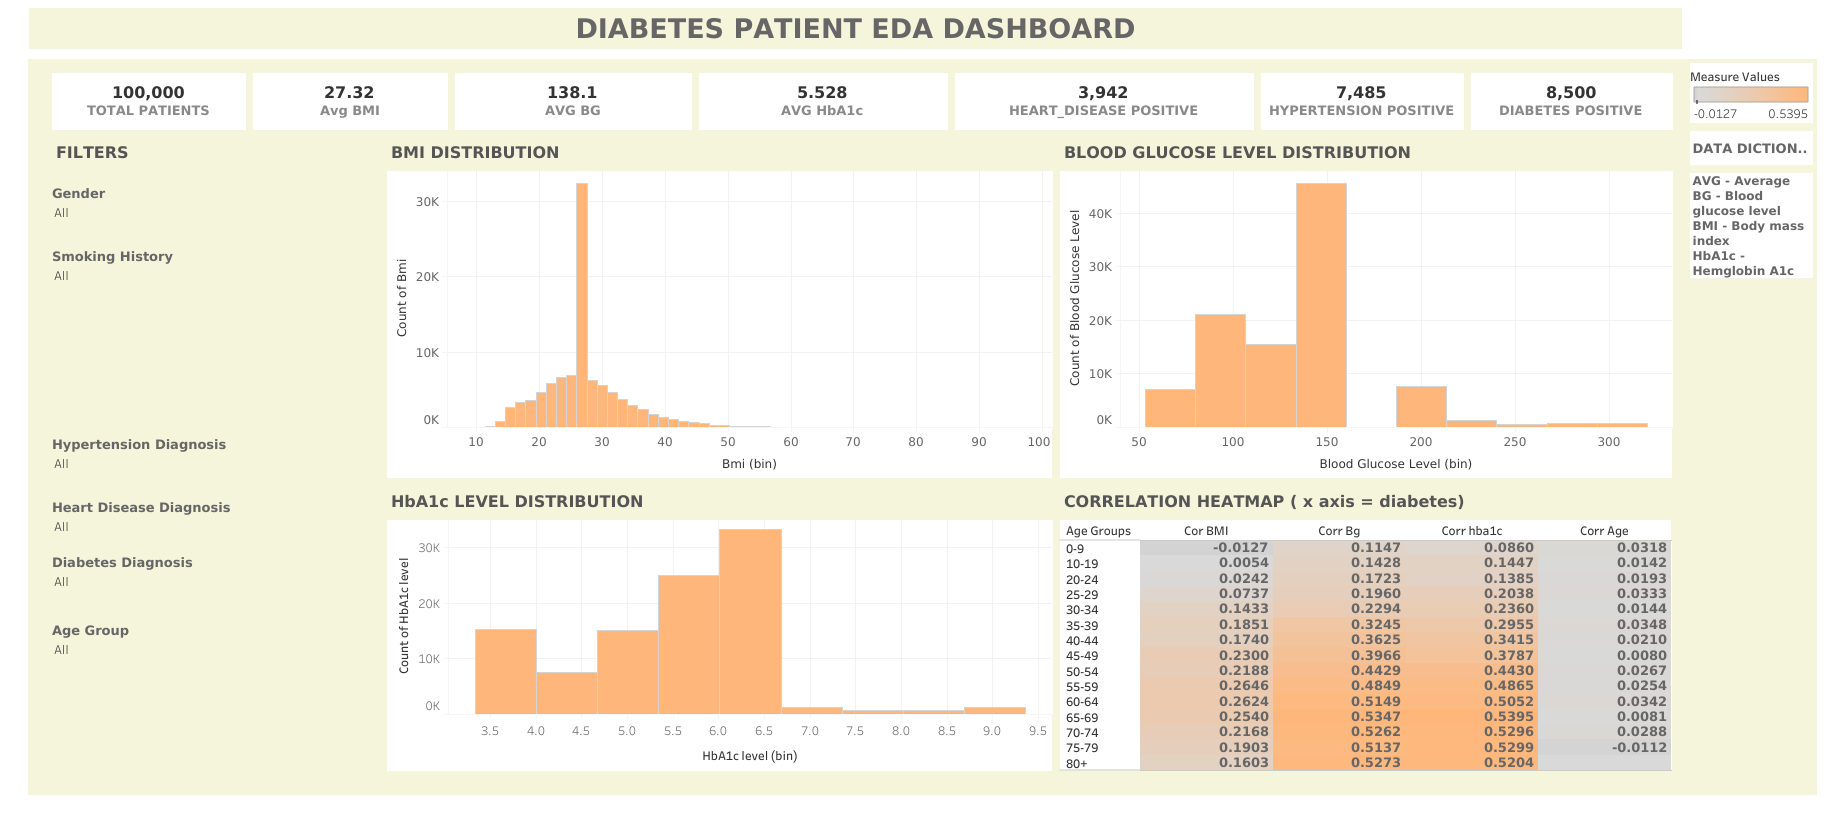

This screenshot's page, from the dashboard's own definition file:
{"tool":"tableau","page":{"name":"Dashboard 1","canvas":[1000,1000],"units":"permille","ordinal":0},"visuals":[{"type":"text","box":[4.9,9.9,990.3,49.7]},{"type":"legend","title":"Correlation Heatmap","param":"[federated.1rmcrk01st02gq1c0l5tl1j8yfy8].[Multiple Values]","box":[909.6,71.9,79.4,84]},{"type":"worksheet","title":"kpi 1","mark":"Automatic","box":[29.1,84.2,108.1,78.2]},{"type":"worksheet","title":"kpi 2","mark":"Automatic","box":[137.2,84.2,108.2,78.2]},{"type":"worksheet","title":"kpi 3","mark":"Automatic","box":[245.4,84.2,131.2,78.2]},{"type":"worksheet","title":"kpi 4","mark":"Automatic","box":[376.6,84.2,137.4,78.2]},{"type":"worksheet","title":"kpi 5","mark":"Automatic","box":[514,84.2,164.8,78.2]},{"type":"worksheet","title":"kpi 6","mark":"Automatic","box":[678.8,84.2,112.4,78.2]},{"type":"worksheet","title":"kpi 7","mark":"Automatic","box":[791.1,84.2,112.5,78.2]},{"type":"text","box":[909.6,155.8,79.4,51.9]},{"type":"worksheet","title":"Filters","mark":"Automatic","box":[29.1,162.4,180.2,56.4]},{"type":"worksheet","title":"bmi dist","mark":"Automatic","rows":["bmi"],"cols":["Bmi (bin)"],"box":[209.3,162.4,361.3,422.3]},{"type":"worksheet","title":"bgl dist","mark":"Automatic","rows":["blood_glucose_level"],"cols":["Blood Glucose Level (bin)"],"box":[570.6,162.4,333,422.3]},{"type":"text","box":[909.6,207.7,79.4,139.5]},{"type":"filter","title":"Filters","param":"[federated.1rmcrk01st02gq1c0l5tl1j8yfy8].[none:gender:nk]","box":[29.1,218.8,180.2,76.3]},{"type":"filter","title":"Filters","param":"[federated.1rmcrk01st02gq1c0l5tl1j8yfy8].[none:smoking_history:nk]","box":[29.1,295.1,180.2,228.4]},{"type":"filter","title":"Filters","param":"[federated.1rmcrk01st02gq1c0l5tl1j8yfy8].[none:hypertension diagnosis:nk]","box":[29.1,523.5,180.2,76.5]},{"type":"worksheet","title":"HbA1c Dist","mark":"Automatic","rows":["HbA1c_level"],"cols":["HbA1c level (bin)"],"box":[209.3,584.8,361.3,356]},{"type":"worksheet","title":"Correlation Heatmap","mark":"Square","rows":["Calculation_950259527444824067"],"box":[570.6,584.8,333,356]},{"type":"filter","title":"Filters","param":"[federated.1rmcrk01st02gq1c0l5tl1j8yfy8].[none:heart_disease diagnosis:nk]","box":[29.1,600,180.2,66.7]},{"type":"filter","title":"Filters","param":"[federated.1rmcrk01st02gq1c0l5tl1j8yfy8].[none:diabetes diagnosis:nk]","box":[29.1,666.7,180.2,82.7]},{"type":"filter","title":"Filters","param":"[federated.1rmcrk01st02gq1c0l5tl1j8yfy8].[none:age group:nk]","box":[29.1,749.4,180.2,191.4]}]}

Visuals, with their boxes on the dashboard's canvas, which has no fixed pixel size, in thousandths of its width and height (x1, y1, x2, y2). These are canvas units, not pixel positions in the 1834x822 screenshot, which may show the page scaled, cropped or inside an application window:
text: x1=5, y1=10, x2=995, y2=60
"Correlation Heatmap" legend: x1=910, y1=72, x2=989, y2=156
"kpi 1" worksheet: x1=29, y1=84, x2=137, y2=162
"kpi 2" worksheet: x1=137, y1=84, x2=245, y2=162
"kpi 3" worksheet: x1=245, y1=84, x2=377, y2=162
"kpi 4" worksheet: x1=377, y1=84, x2=514, y2=162
"kpi 5" worksheet: x1=514, y1=84, x2=679, y2=162
"kpi 6" worksheet: x1=679, y1=84, x2=791, y2=162
"kpi 7" worksheet: x1=791, y1=84, x2=904, y2=162
text: x1=910, y1=156, x2=989, y2=208
"Filters" worksheet: x1=29, y1=162, x2=209, y2=219
"bmi dist" worksheet: x1=209, y1=162, x2=571, y2=585
"bgl dist" worksheet: x1=571, y1=162, x2=904, y2=585
text: x1=910, y1=208, x2=989, y2=347
"Filters" filter: x1=29, y1=219, x2=209, y2=295
"Filters" filter: x1=29, y1=295, x2=209, y2=524
"Filters" filter: x1=29, y1=524, x2=209, y2=600
"HbA1c Dist" worksheet: x1=209, y1=585, x2=571, y2=941
"Correlation Heatmap" worksheet (Square marks): x1=571, y1=585, x2=904, y2=941
"Filters" filter: x1=29, y1=600, x2=209, y2=667
"Filters" filter: x1=29, y1=667, x2=209, y2=749
"Filters" filter: x1=29, y1=749, x2=209, y2=941
